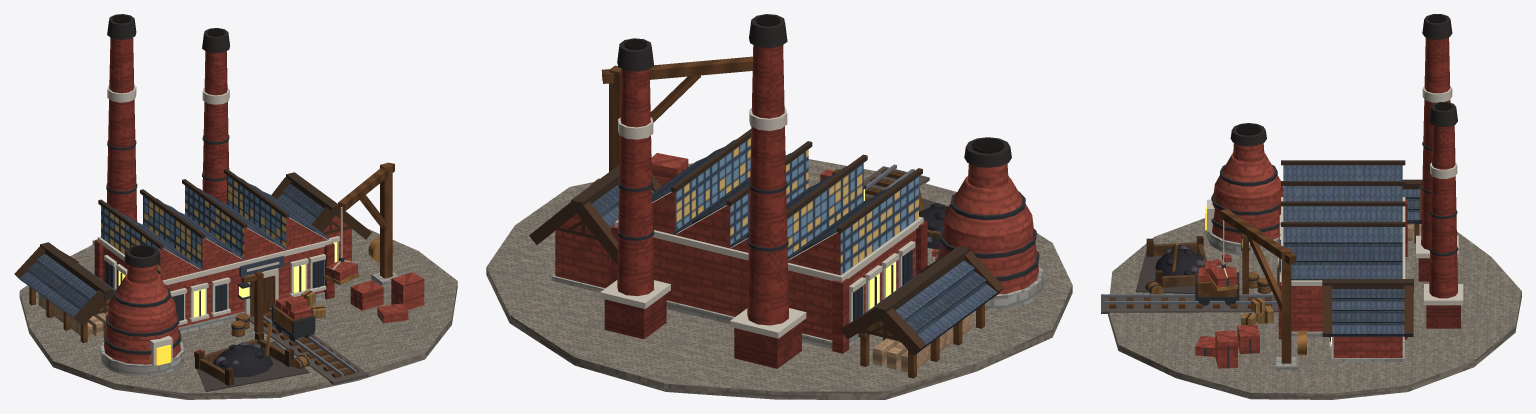
Rendered from factory_l1.glb.
3 views of the same model, side by side, from view 1: azimuth 30°, elevation 25°; view 2: azimuth 150°, elevation 25°; view 3: azimuth 270°, elevation 25° (orthographic). The views are drawn at different scales.
Parts seen in each view (by area): view 1: factory_l1; view 2: factory_l1; view 3: factory_l1.
Part boxes in pixels (x1=…): factory_l1: x1=14, y1=14, x2=457, y2=399; factory_l1: x1=486, y1=14, x2=1072, y2=399; factory_l1: x1=1101, y1=14, x2=1521, y2=399.
Bounding box in the file's own units: 1.43 × 0.918 × 1.34.
4 materials, 1 textured.
